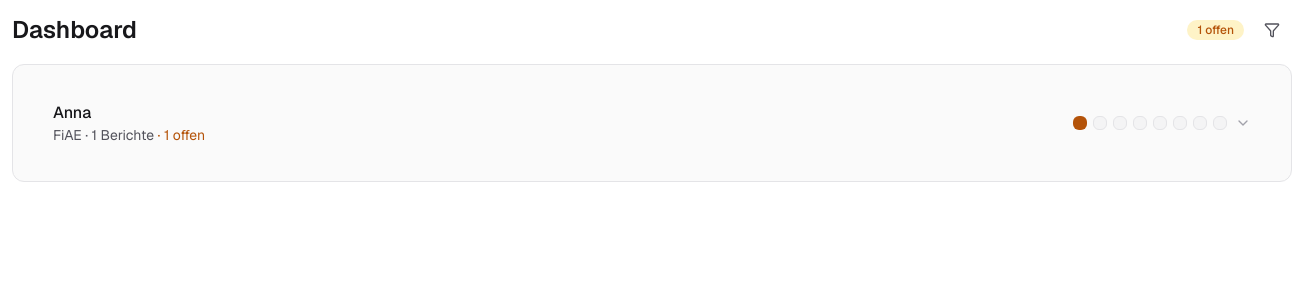
ReviewerDashboard › expands trainee to show reports on click
This screenshot has width=1304, height=296.
Click the button "Anna FiAE · 1 Berichte · 1 offen": (72, 112) x1=37 y1=89 x2=1267 y2=157
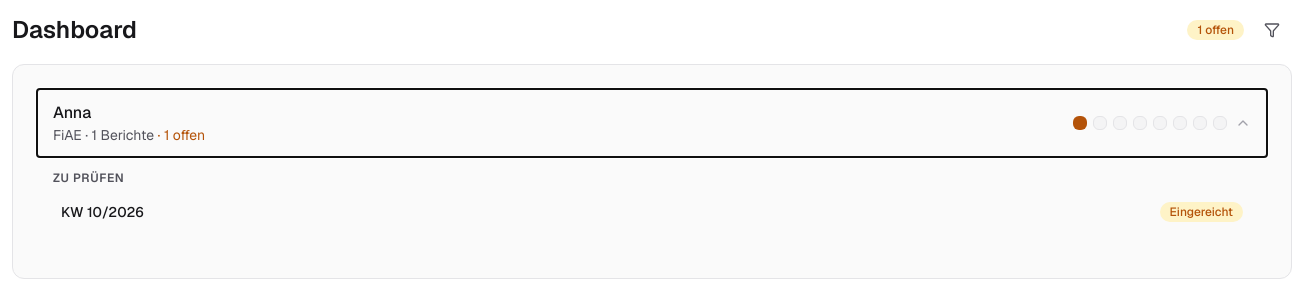
Result: the text "Zu prüfen" is shown at x1=53 y1=170 x2=124 y2=186
Result: the text "KW 10/2026" is shown at x1=61 y1=202 x2=144 y2=222
